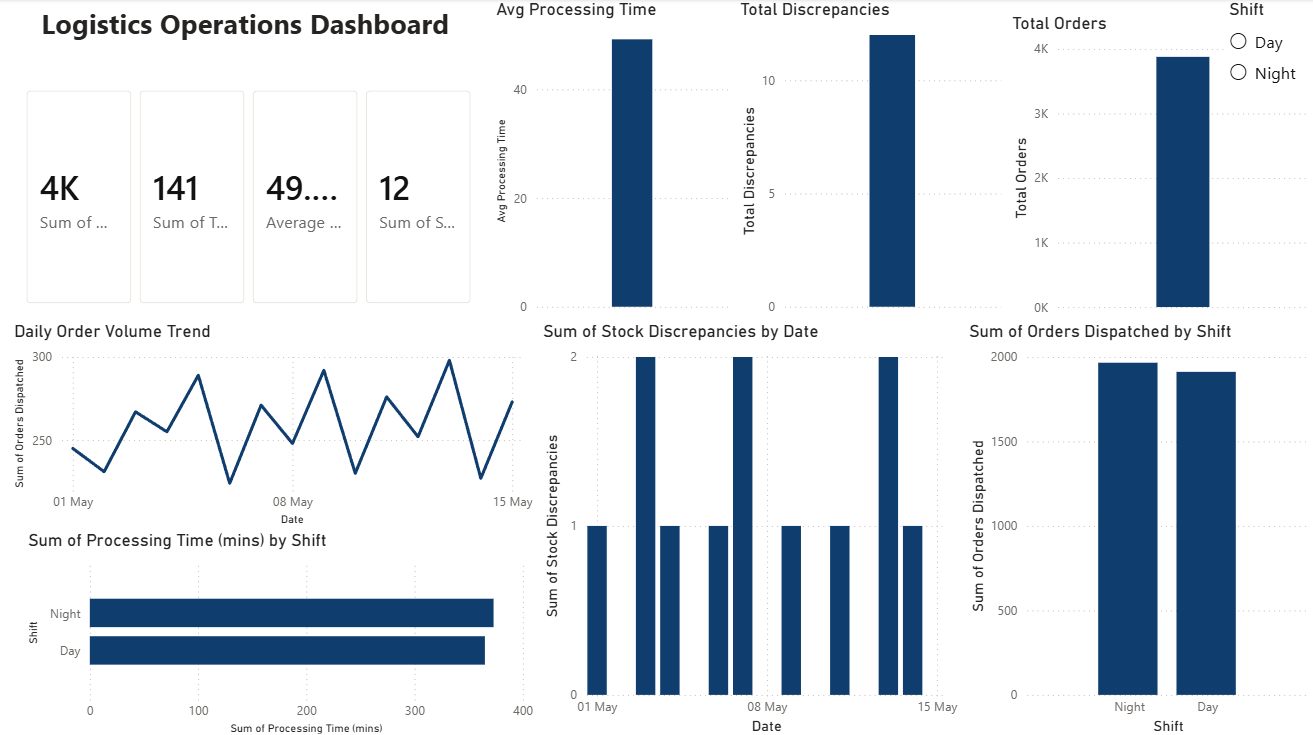

Layout of this report page (visuals, bound fields, positions):
{"tool":"powerbi","page":{"name":"Page 1","canvas":[1280,720],"ordinal":0},"visuals":[{"type":"cardVisual","fields":{"Data":["Sum(Logistics Operations Dashboard - Sheet1.Orders Dispatched)","Sum(Logistics Operations Dashboard - Sheet1.Trailers Processed)","Avg(Logistics Operations Dashboard - Sheet1.Processing Time (mins))","Sum(Logistics Operations Dashboard - Sheet1.Stock Discrepancies)"]},"box":[10,72.2,468.9,241.1],"z":0},{"type":"lineChart","title":"Daily Order Volume Trend","fields":{"Y":["Sum(Logistics Operations Dashboard - Sheet1.Orders Dispatched)"],"Category":["Logistics Operations Dashboard - Sheet1.Date"]},"box":[10,313.3,514.4,203.3],"z":1000},{"type":"clusteredColumnChart","fields":{"Category":["Logistics Operations Dashboard - Sheet1.Shift"],"Y":["Sum(Logistics Operations Dashboard - Sheet1.Orders Dispatched)"]},"box":[938.9,313.3,341.1,406.7],"z":2000},{"type":"clusteredBarChart","fields":{"Category":["Logistics Operations Dashboard - Sheet1.Shift"],"Y":["Sum(Logistics Operations Dashboard - Sheet1.Processing Time (mins))"]},"box":[23.3,516.7,501.1,203.3],"z":3000},{"type":"columnChart","fields":{"Y":["Sum(Logistics Operations Dashboard - Sheet1.Stock Discrepancies)"],"Category":["Logistics Operations Dashboard - Sheet1.Date"]},"box":[524.4,313.3,414.4,406.7],"z":4000},{"type":"clusteredColumnChart","fields":{"Y":["Logistics Operations Dashboard - Sheet1.Total Orders"]},"box":[980,13.3,300,300],"z":5000},{"type":"clusteredColumnChart","fields":{"Y":["Logistics Operations Dashboard - Sheet1.Avg Processing Time"]},"box":[478.9,0,236.7,313.3],"z":6000},{"type":"clusteredColumnChart","fields":{"Y":["Logistics Operations Dashboard - Sheet1.Total Discrepancies"]},"box":[715.6,0,264.4,313.3],"z":7000},{"type":"textbox","box":[0,0,478.9,72.2],"z":8000},{"type":"listSlicer","fields":{"Values":["Logistics Operations Dashboard - Sheet1.Shift"]},"box":[1191.1,0,88.9,101.1],"z":8001}]}

Visuals, with their boxes in screenshot pixels (x1, y1, x2, y2), scaled from the page's 1280x720 canvas onto the 1313x735 screenshot:
cardVisual - Sum(Logistics Operations Dashboard - Sheet1.Orders Dispatched) x Sum(Logistics Operations Dashboard - Sheet1.Trailers Processed): crop(10, 74, 491, 320)
"Daily Order Volume Trend" lineChart: crop(10, 320, 538, 527)
clusteredColumnChart - Logistics Operations Dashboard - Sheet1.Shift x Sum(Logistics Operations Dashboard - Sheet1.Orders Dispatched): crop(963, 320, 1312, 734)
clusteredBarChart - Logistics Operations Dashboard - Sheet1.Shift x Sum(Logistics Operations Dashboard - Sheet1.Processing Time (mins)): crop(24, 527, 538, 734)
columnChart - Sum(Logistics Operations Dashboard - Sheet1.Stock Discrepancies) x Logistics Operations Dashboard - Sheet1.Date: crop(538, 320, 963, 734)
clusteredColumnChart - Logistics Operations Dashboard - Sheet1.Total Orders: crop(1005, 14, 1312, 320)
clusteredColumnChart - Logistics Operations Dashboard - Sheet1.Avg Processing Time: crop(491, 0, 734, 320)
clusteredColumnChart - Logistics Operations Dashboard - Sheet1.Total Discrepancies: crop(734, 0, 1005, 320)
textbox: crop(0, 0, 491, 74)
listSlicer - Logistics Operations Dashboard - Sheet1.Shift: crop(1222, 0, 1312, 103)
